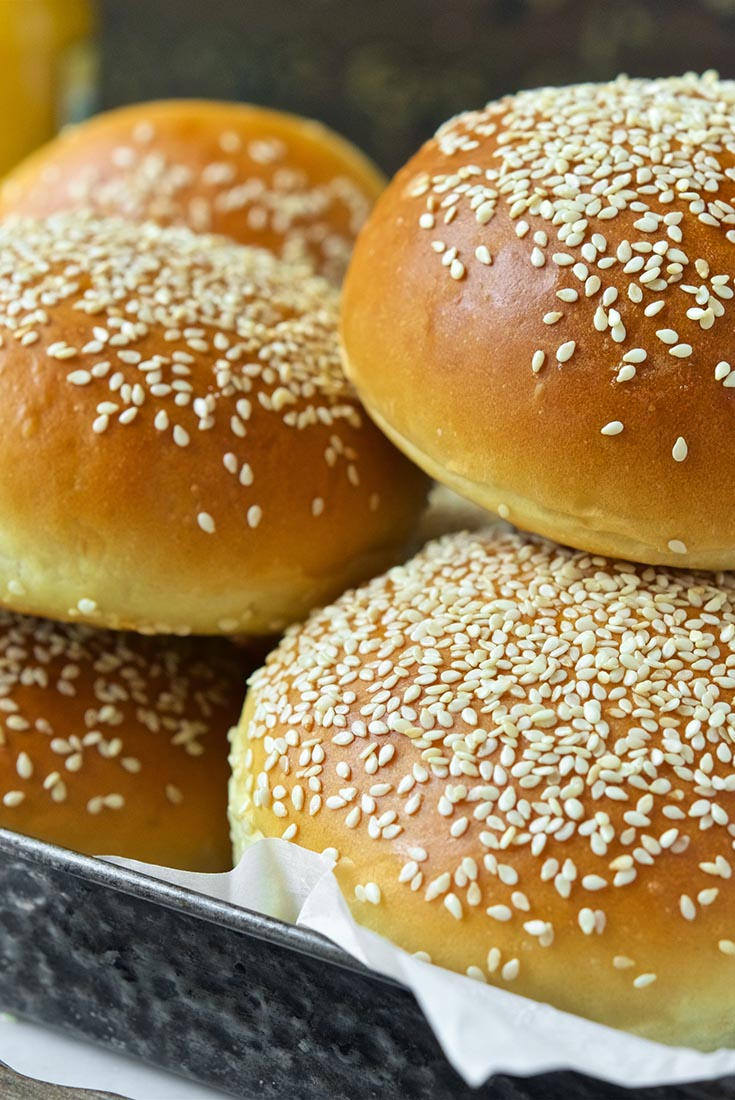hamburger_buns: (199, 521, 735, 1006), (290, 54, 735, 563), (4, 197, 371, 628)
